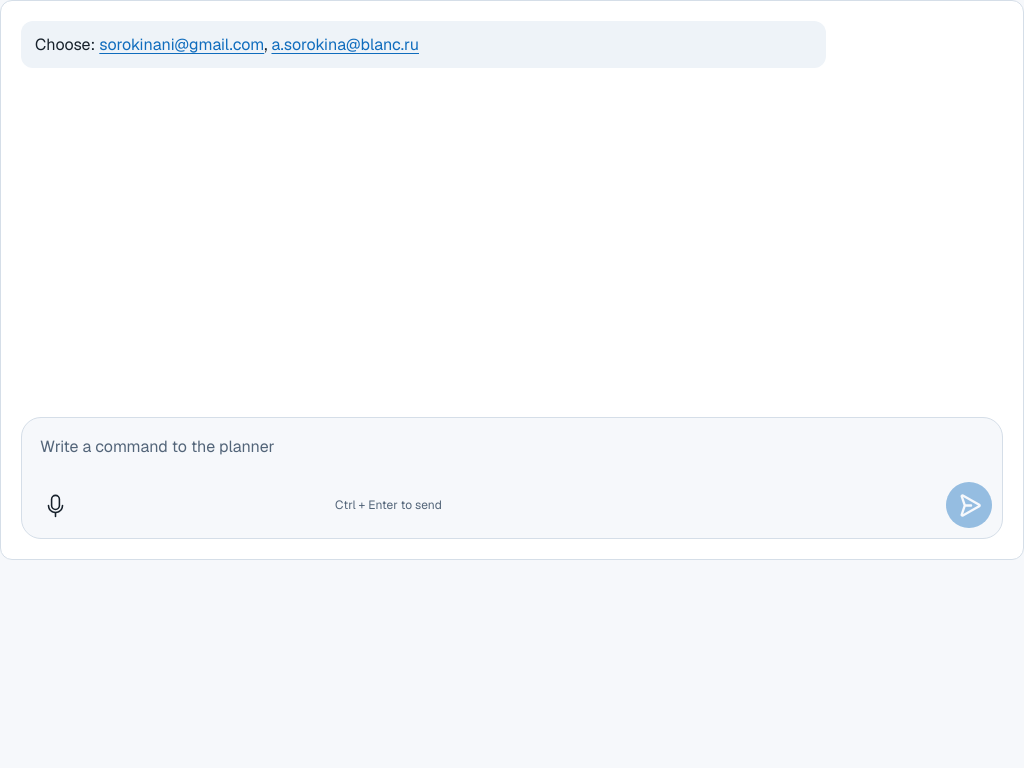
Test: inserts a clicked recipient candidate into the composer
Click the button "sorokinani@gmail.com" at (182, 45), box x1=99 y1=33 x2=264 y2=56
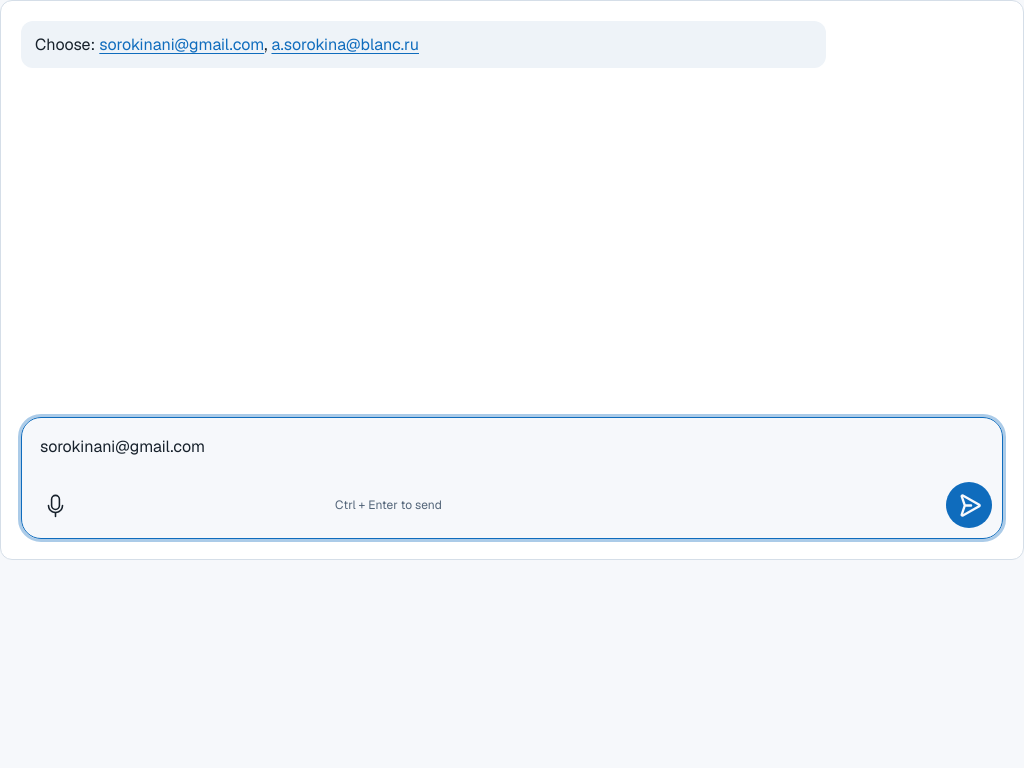
expect the text box named "command" holds "sorokinani@gmail.com": met, box x1=22 y1=418 x2=1002 y2=476
